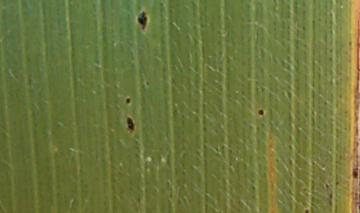tarspot: (135, 9, 150, 30), (126, 116, 136, 134), (351, 166, 359, 177), (322, 182, 330, 191), (257, 108, 264, 117), (125, 96, 132, 104), (327, 47, 334, 55), (327, 56, 334, 63), (346, 39, 352, 46), (302, 208, 309, 213), (145, 80, 150, 86), (357, 204, 360, 211)
